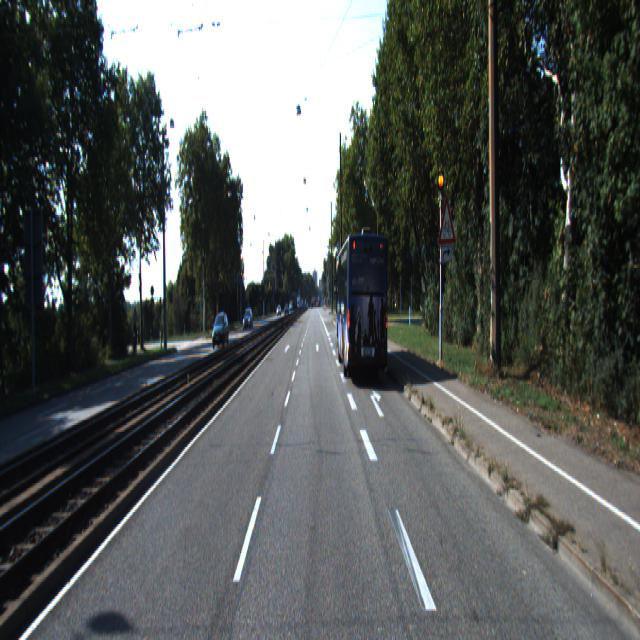Car: (335, 225, 391, 381), (211, 313, 230, 349)
